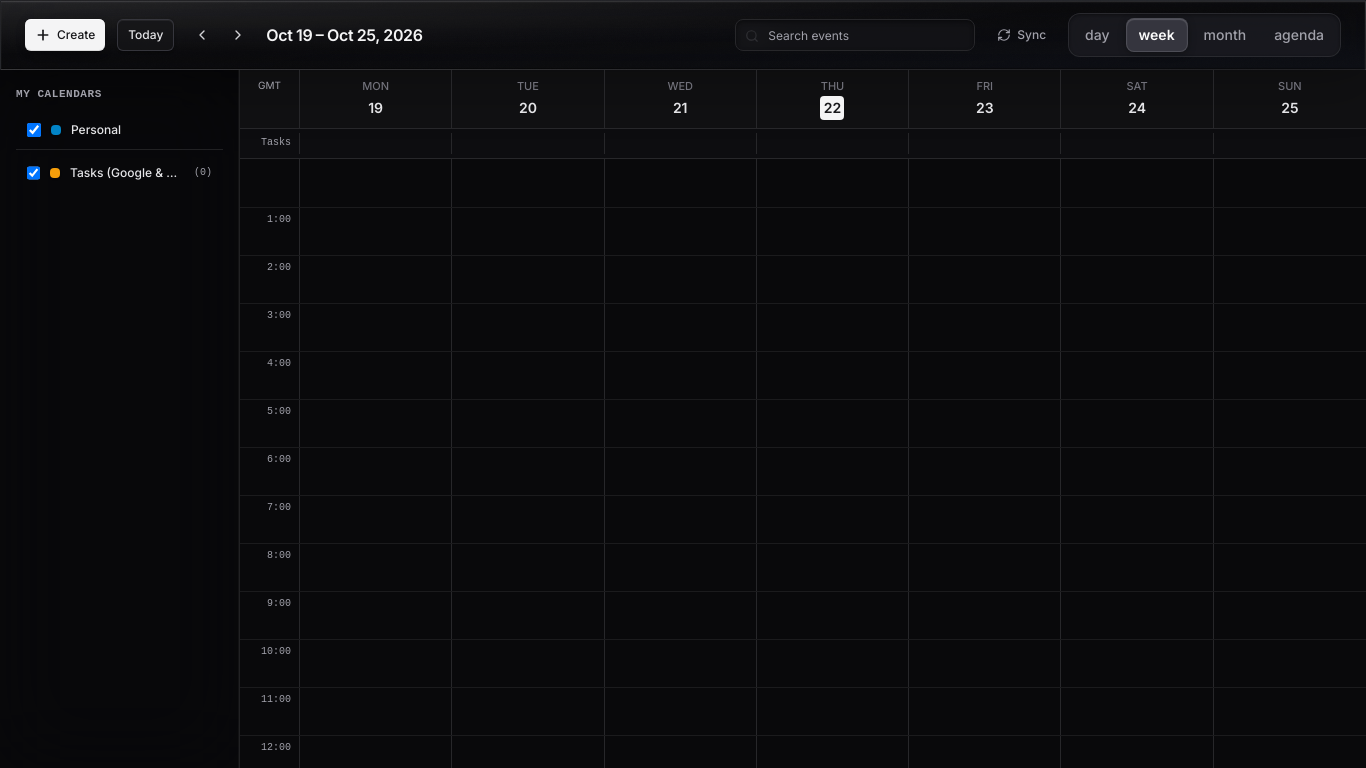
Deep Two-Way Synchronization & Calendar Polish Verification › calculates Month View item overflow accurately with asymmetric event/task counts
This screenshot has width=1366, height=768.
# Switch to month view
Step 1. Click the tab "month" → {"x": 1225, "y": 35}, box [1192,19,1258,51]
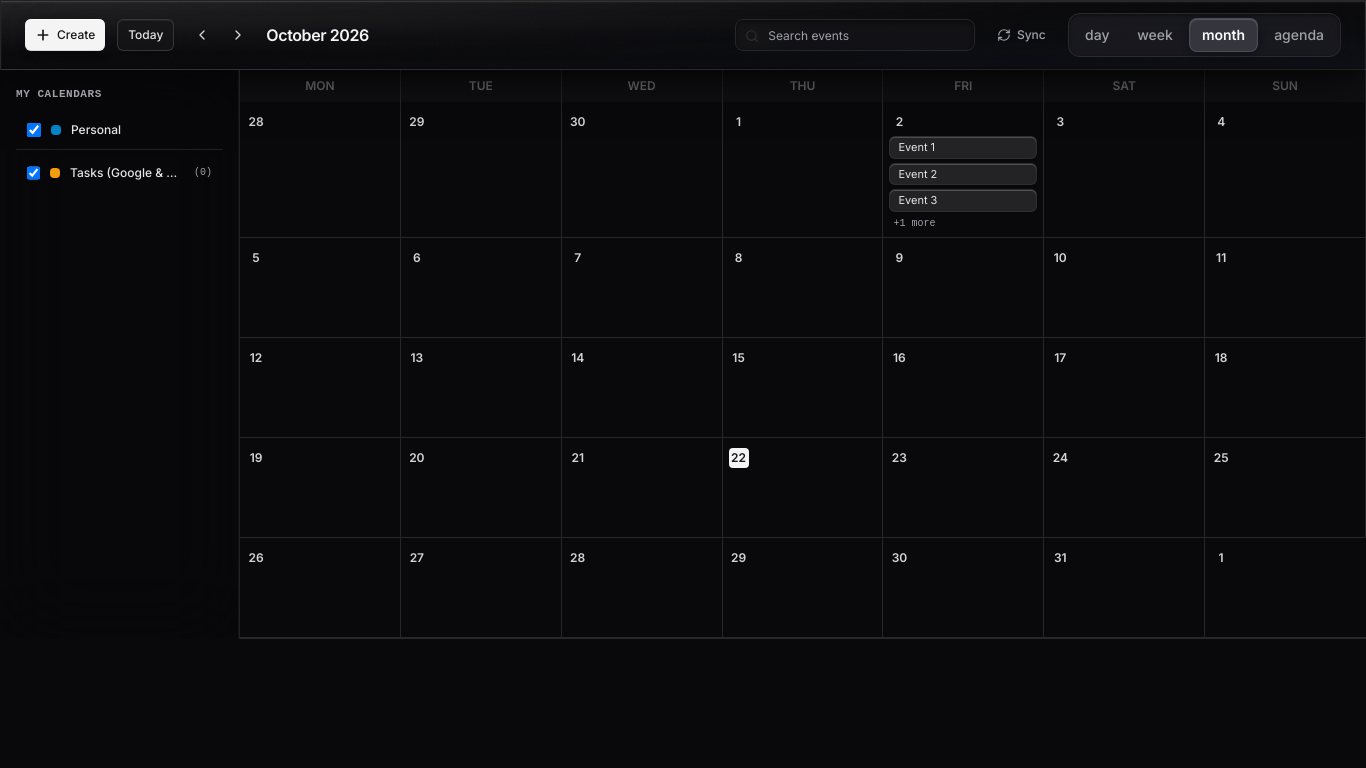
Expected: the text "+1 more" is shown, [893,218,935,228]
